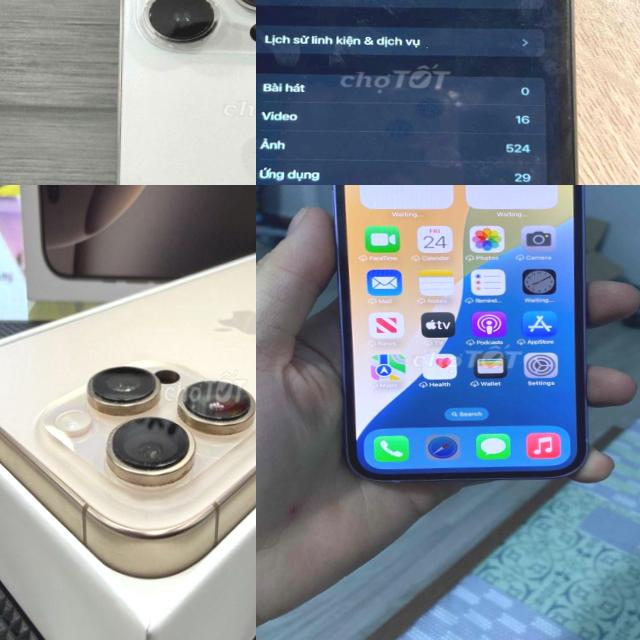gen_12_13: (314, 185, 604, 489)
gen_14: (97, 0, 256, 185)
gen_16: (0, 240, 256, 580)
gen_x_xs: (256, 0, 604, 185)
